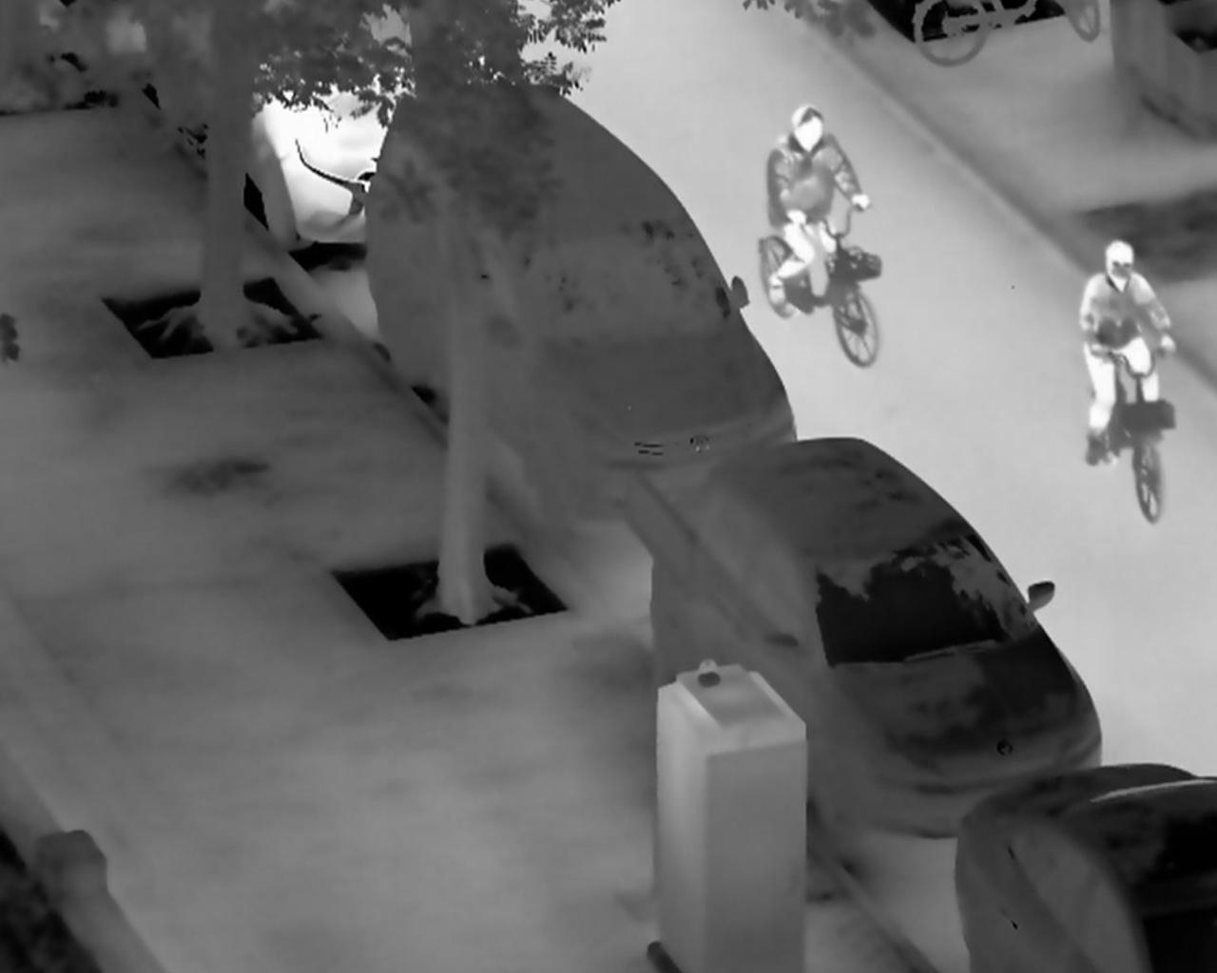person: (764, 101, 869, 321), (1078, 238, 1177, 469)
